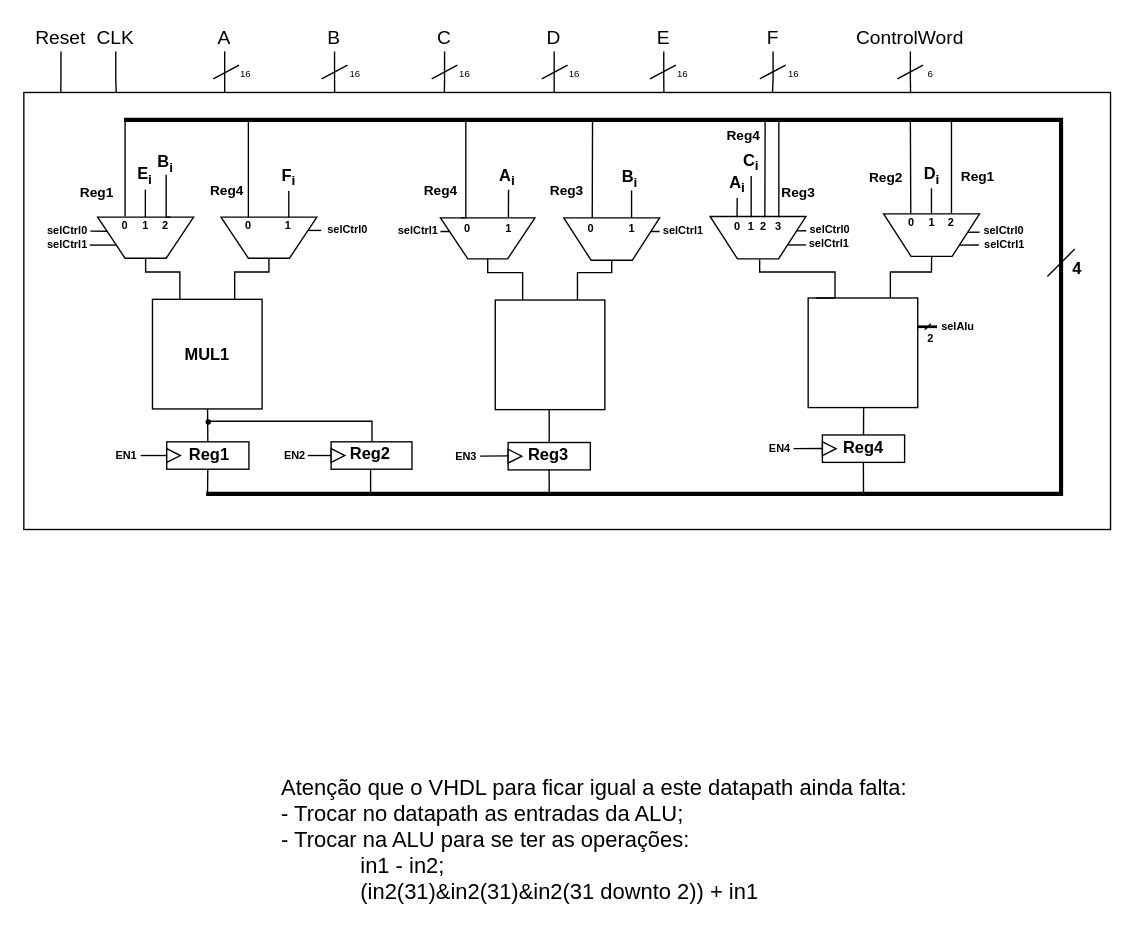
Image size: 1136x951. Some labels were removed from this diagram. Here are the shapes that lost their labels. From the top down, the centre of each, then its label:
pixel 549 354: MUL2
pixel 862 352: ALU
